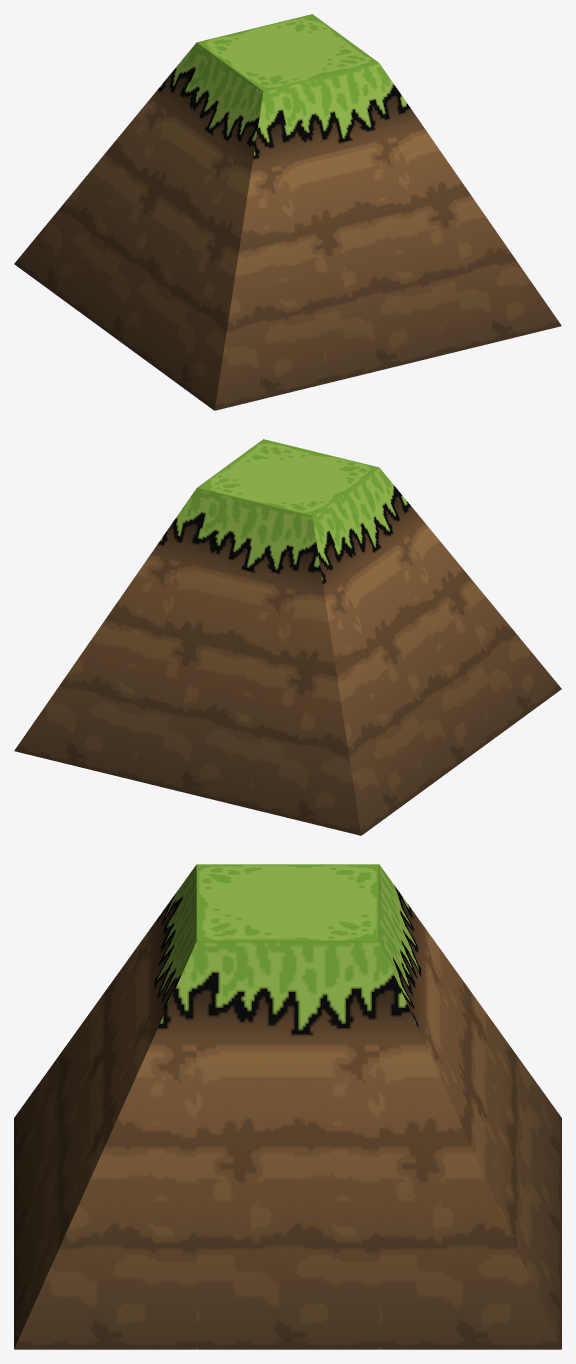
The model's file is wall_isle_B.FBX.
3 renders of one model, top to bottom at view 1: azimuth 30°, elevation 25°; view 2: azimuth 150°, elevation 25°; view 3: azimuth 270°, elevation 25°, orthographic. The views are drawn at different scales.
Parts seen in each view (by area): view 1: wall_isle_B; view 2: wall_isle_B; view 3: wall_isle_B.
Boxes of the visible parts, x1,y1,x2,y2 form: wall_isle_B: (14, 14, 561, 410); wall_isle_B: (14, 439, 561, 835); wall_isle_B: (14, 864, 561, 1349).
Size of the model in its own units: 6 by 4 by 6.
